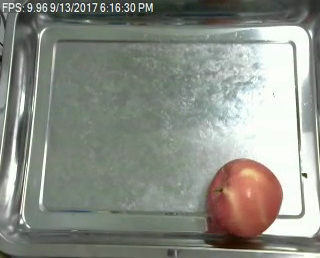Apple: (207, 158, 282, 239)
